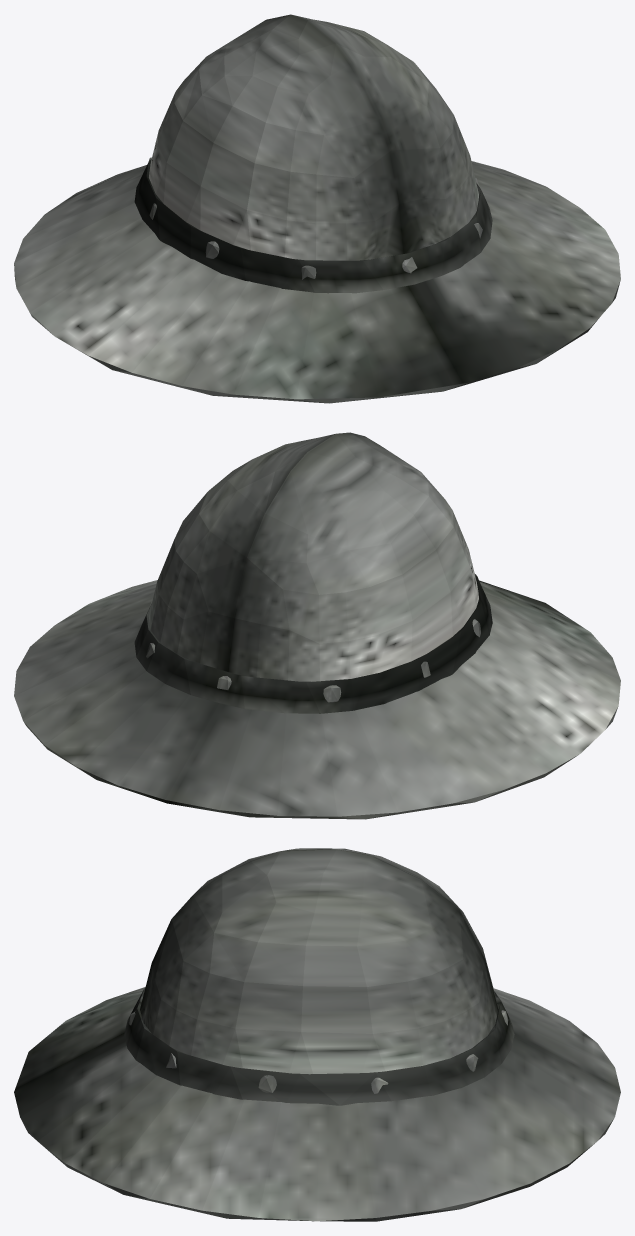
File: RYCERZ9.glb
The picture shows the model from 3 angles, top to bottom: view 1: azimuth 30°, elevation 25°; view 2: azimuth 150°, elevation 25°; view 3: azimuth 270°, elevation 25°; orthographic projection.
Parts seen in each view (by area): view 1: RYCERZ9; view 2: RYCERZ9; view 3: RYCERZ9.
Boxes of the visible parts, x1,y1,x2,y2 form: RYCERZ9: [14, 14, 620, 403]; RYCERZ9: [14, 432, 620, 819]; RYCERZ9: [14, 848, 620, 1221].
Size of the model in its own units: 0.3962 by 0.179 by 0.3969.
1 material, 1 textured.
